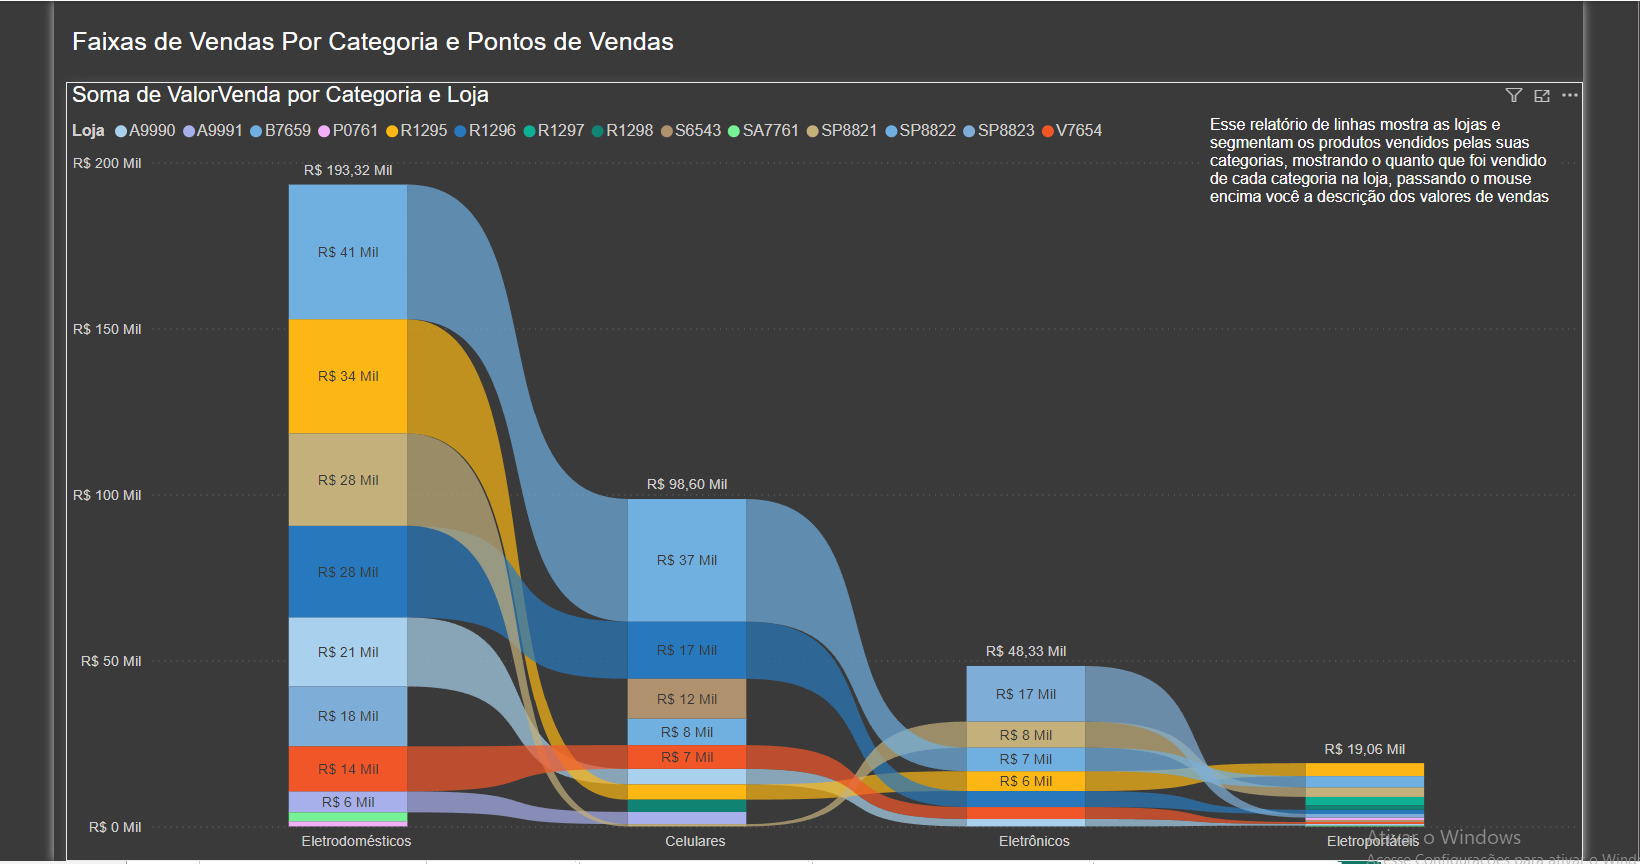

The page's visual inventory and layout, read from the dashboard file:
{"tool":"powerbi","page":{"name":"Faixas de Vendas Por Categoria e Pontos de Vendas","canvas":[1280,720],"ordinal":4},"visuals":[{"type":"ribbonChart","fields":{"Category":["Vendas.Categoria"],"Y":["Sum(Vendas.ValorVenda)"],"Series":["Vendas.Loja"]},"box":[10.3,68.1,1269.7,651.6],"z":1000},{"type":"textbox","box":[962.6,91.2,299.4,145.2],"z":3500},{"type":"textbox","box":[10.1,16.9,516.4,45],"z":3501}]}

Visuals, with their boxes on the page's 1280x720 design canvas (x1, y1, x2, y2). These are canvas units, not pixel positions in the 1640x864 screenshot, which may show the page scaled, cropped or inside an application window:
ribbonChart - Vendas.Categoria x Sum(Vendas.ValorVenda): [10, 68, 1280, 720]
textbox: [963, 91, 1262, 236]
textbox: [10, 17, 526, 62]
